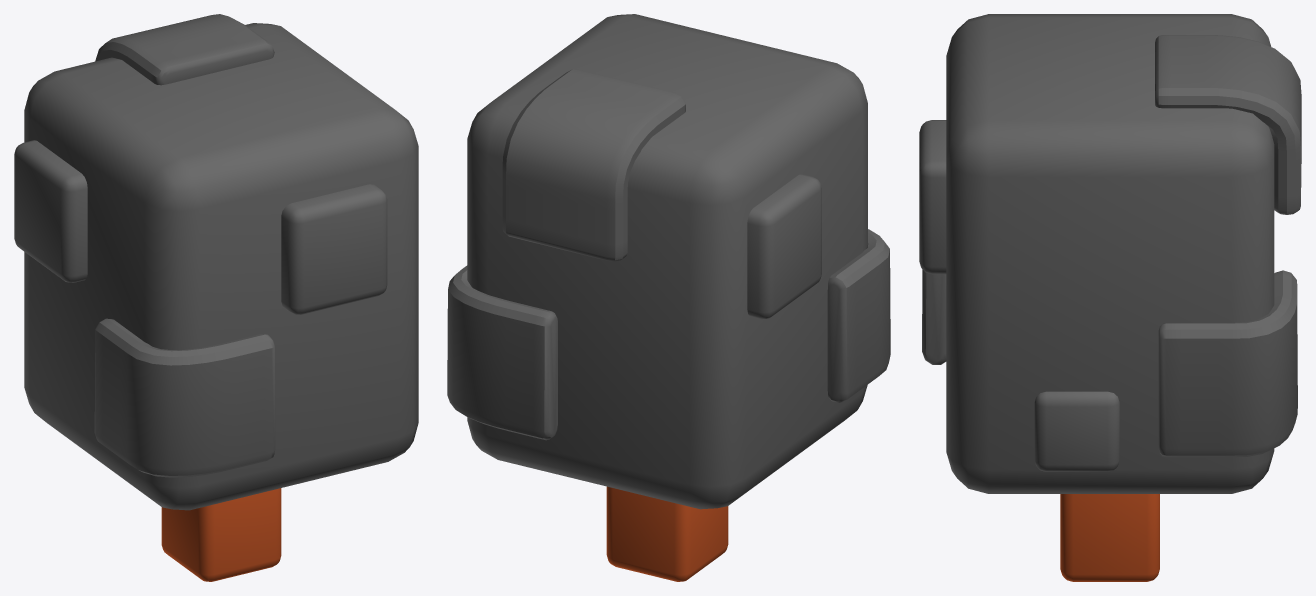
The model's file is tree_winter.fbx.
3 renders of one model, left to right at view 1: azimuth 30°, elevation 25°; view 2: azimuth 150°, elevation 25°; view 3: azimuth 270°, elevation 25°, orthographic. The views are drawn at different scales.
Parts seen in each view (by area): view 1: Cube.158; view 2: Cube.158; view 3: Cube.158.
Boxes of the visible parts, left/top/right/bottom form: Cube.158: left=14, top=14, right=418, bottom=581; Cube.158: left=447, top=14, right=890, bottom=581; Cube.158: left=919, top=14, right=1301, bottom=581.
Size of the model in its own units: 478 by 490 by 726.
